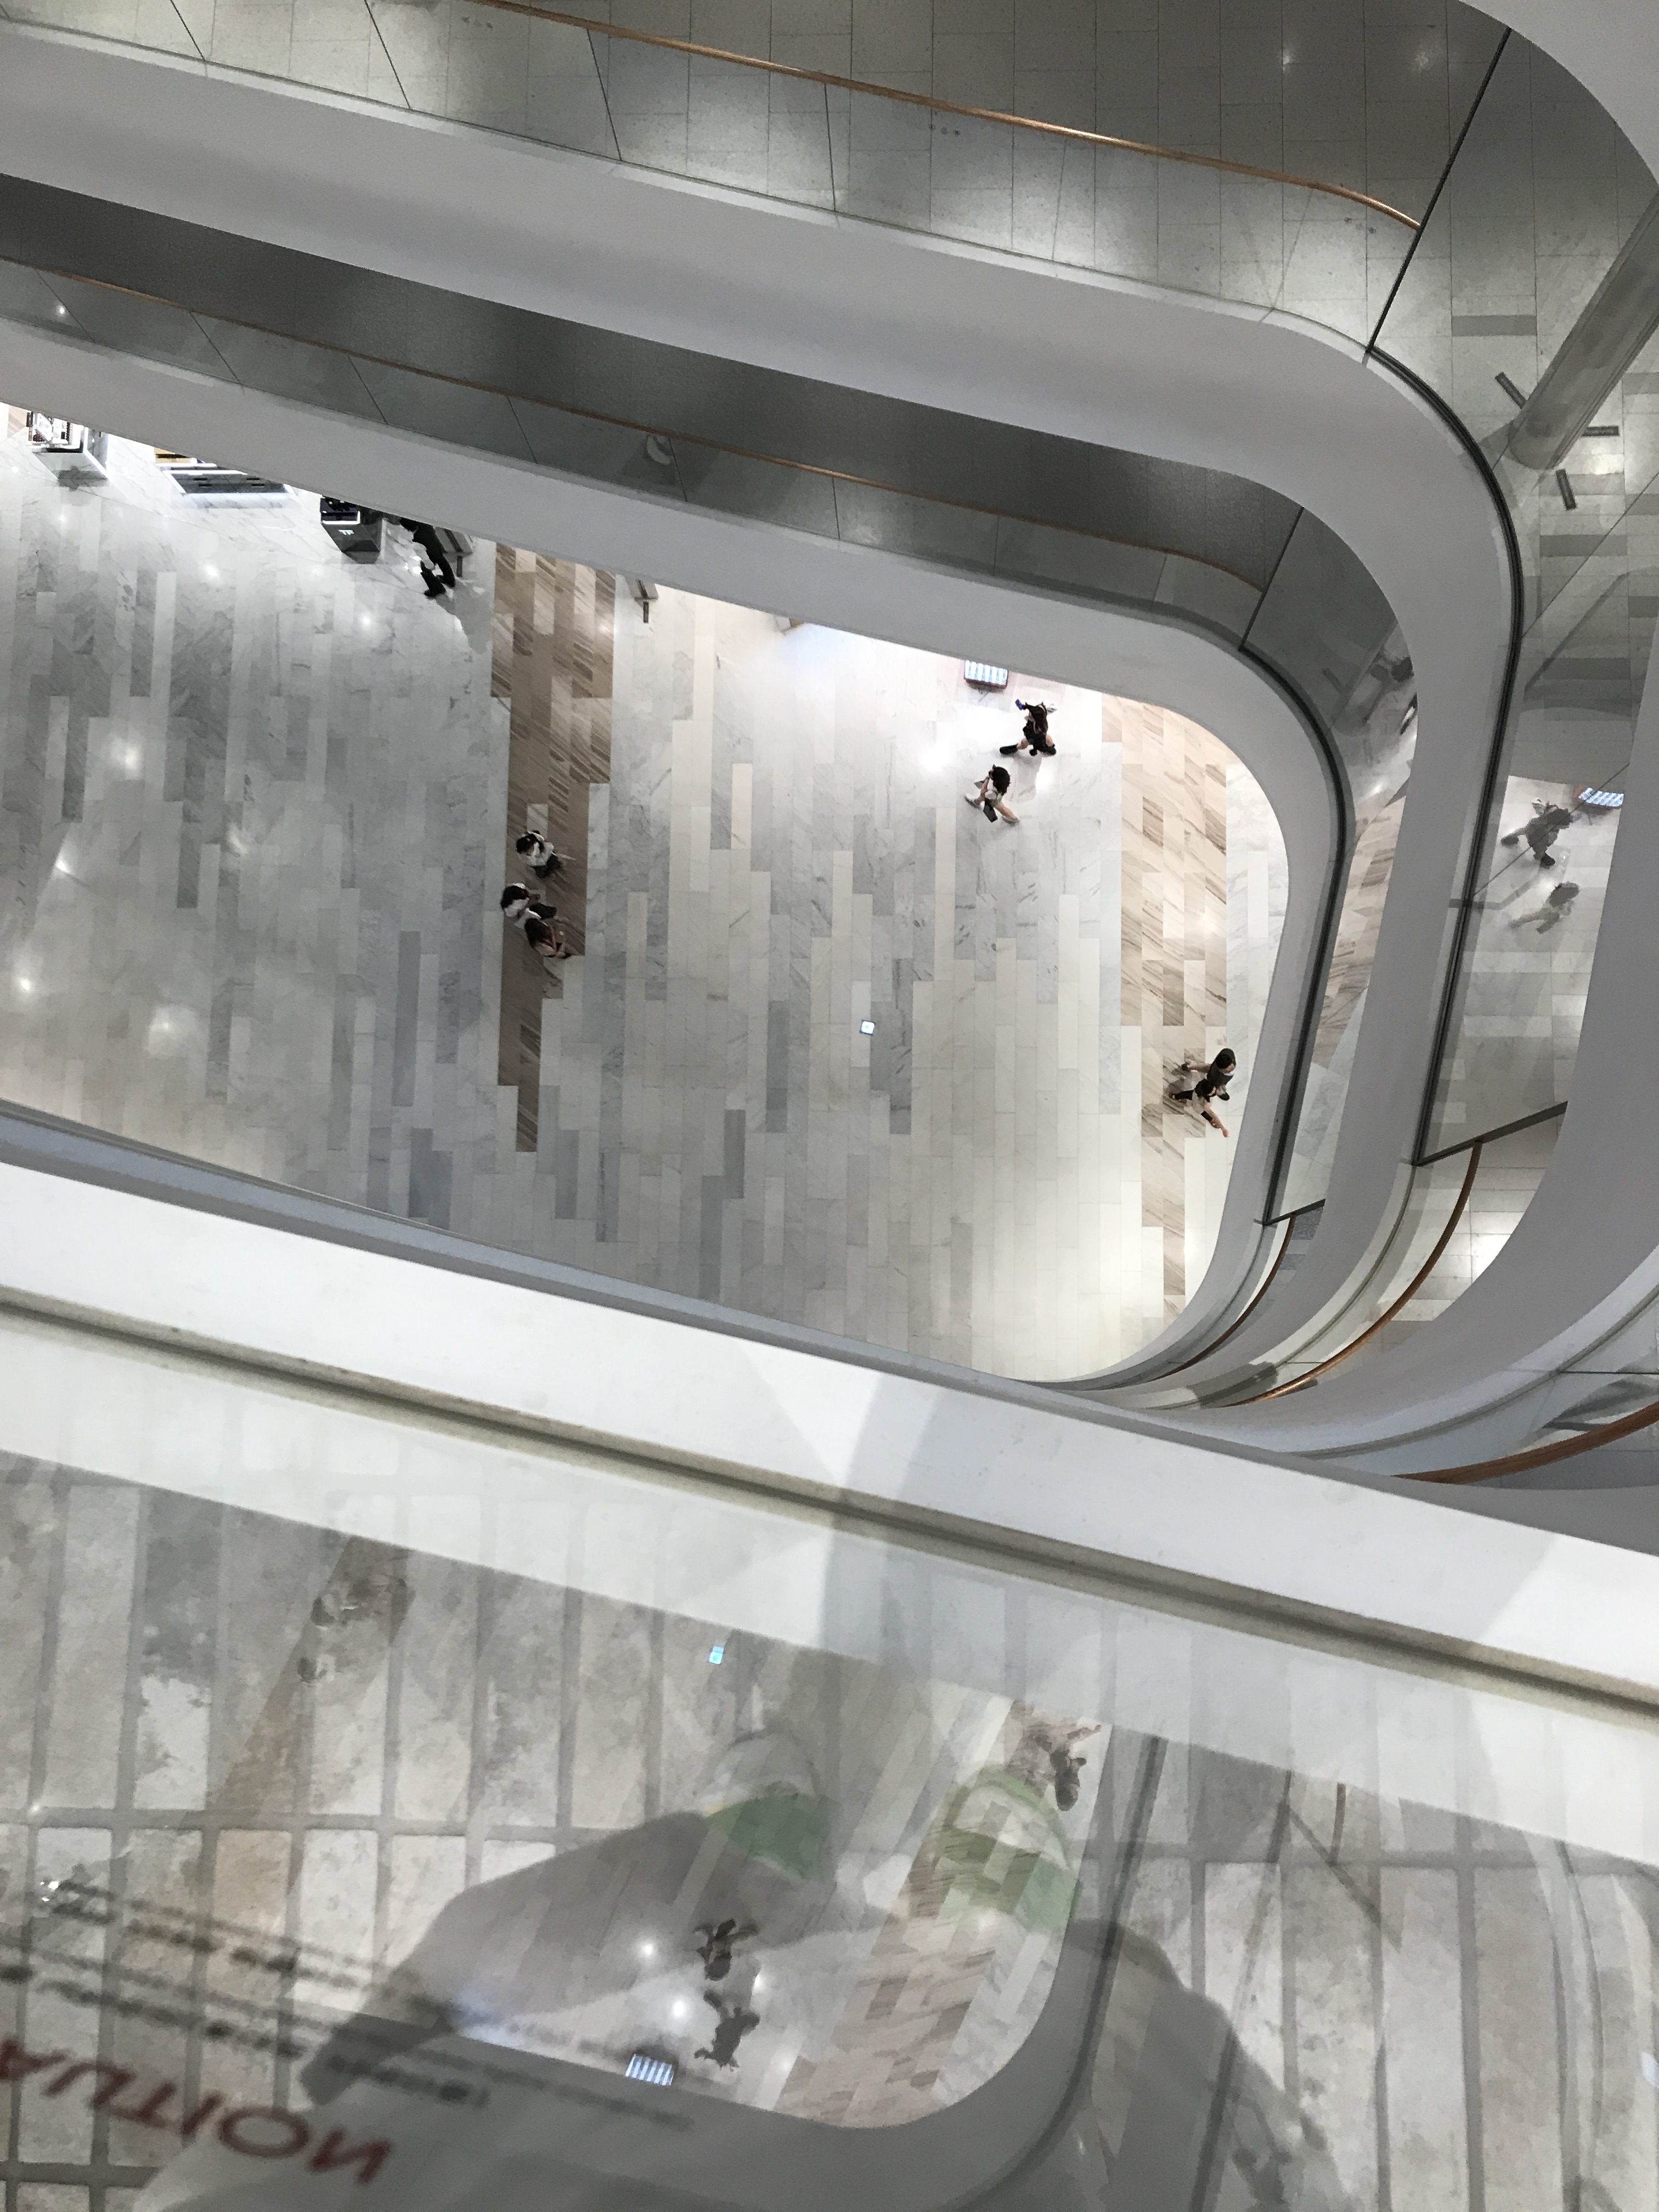person: (398, 516, 456, 599), (1168, 1077, 1234, 1139), (997, 698, 1059, 761), (966, 764, 1021, 826), (1180, 1046, 1240, 1102), (513, 827, 569, 881), (499, 881, 558, 928), (522, 916, 575, 963)
